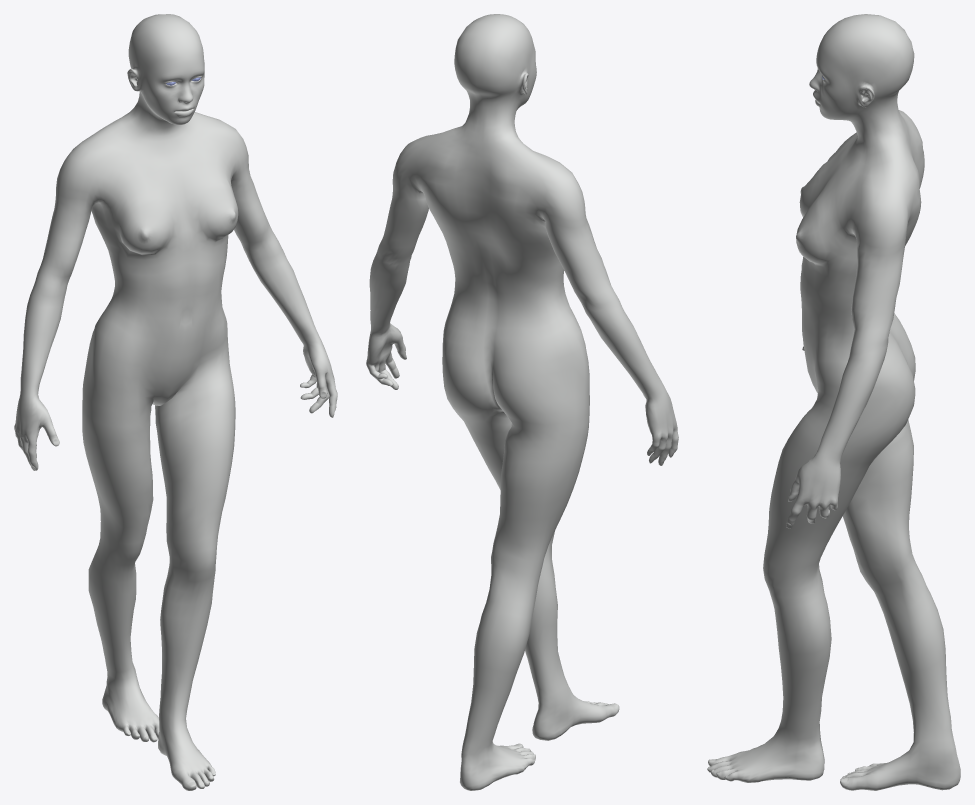
Rendered from humano.gltf.
The picture shows the model from 3 angles, left to right: view 1: azimuth 30°, elevation 25°; view 2: azimuth 150°, elevation 25°; view 3: azimuth 270°, elevation 25°; orthographic projection. The views are drawn at different scales.
Parts seen in each view (by area): view 1: Humano:Body; view 2: Humano:Body; view 3: Humano:Body.
Boxes of the visible parts, box(x1,y1,x2,y2) form: Humano:Body: box(14, 14, 337, 790); Humano:Body: box(366, 14, 678, 790); Humano:Body: box(707, 14, 960, 790).
Size of the model in its own units: 7.57 by 17.18 by 5.07.
2 materials, 1 textured.
